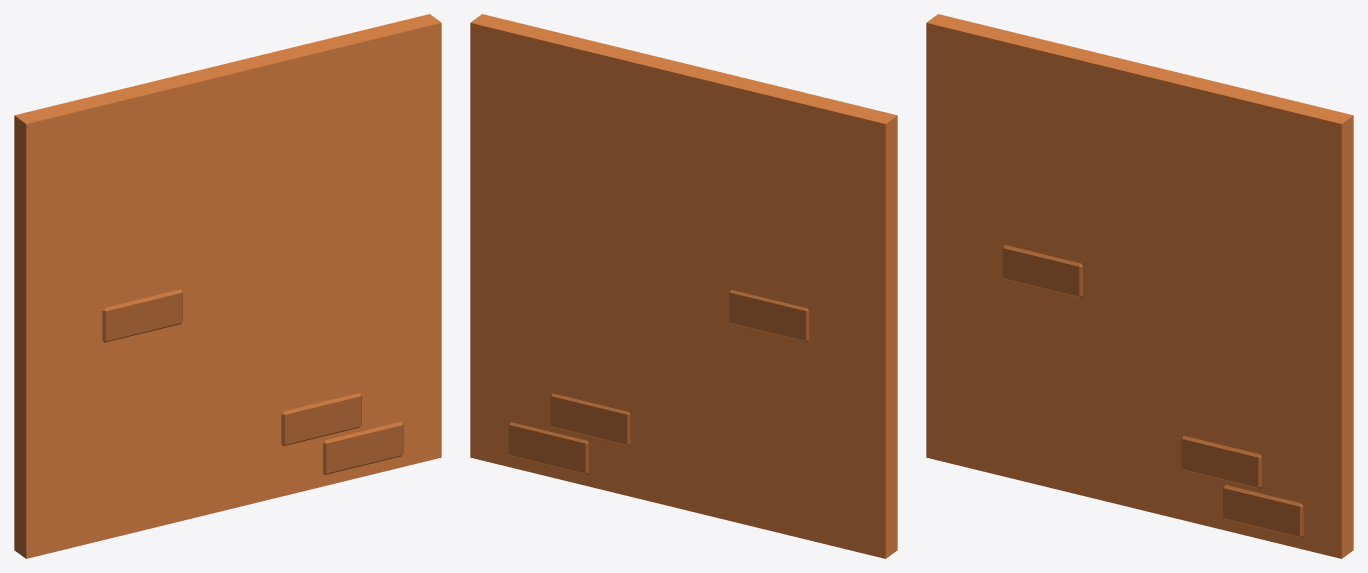
File: wall4.fbx
3 views of the same model, side by side, from view 1: azimuth 30°, elevation 25°; view 2: azimuth 150°, elevation 25°; view 3: azimuth 330°, elevation 25° (orthographic).
Visible parts, largest first — view 1: Wall -Blank.004; view 2: Wall -Blank.004; view 3: Wall -Blank.004.
Boxes of the visible parts, x1,y1,x2,y2 form: Wall -Blank.004: (14, 14, 441, 558); Wall -Blank.004: (470, 14, 897, 558); Wall -Blank.004: (926, 14, 1353, 558).
Size of the model in its own units: 400 by 24.1 by 400.
